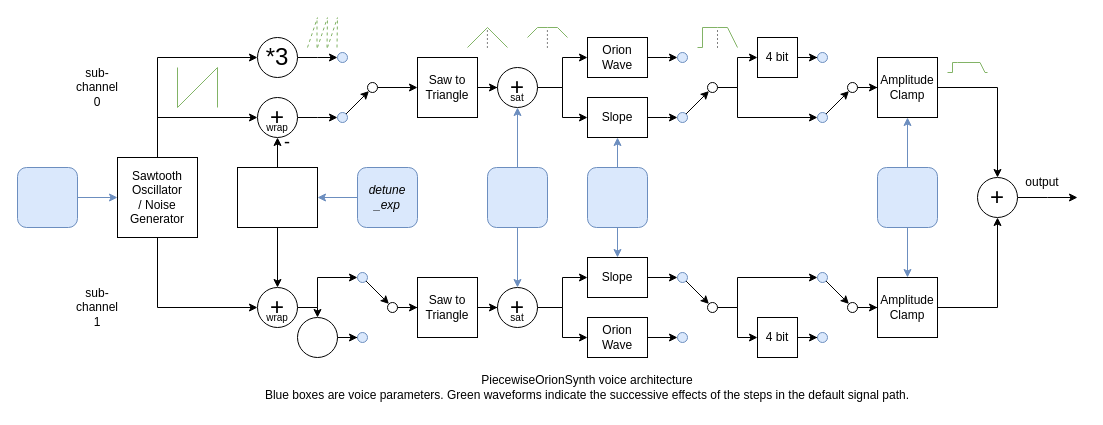
Image size: 1103x425. Some labels were removed from this diagram. The shapes that lost their labels are listed below. From the top down, each one's centre as x and y in pixels, then its label:
point 47,197: f_period
point 277,197: Detune Oscillator
point 517,197: pwm_ offset
point 617,197: slope[0], slope[1]
point 907,197: amp
point 317,337: *2 n
